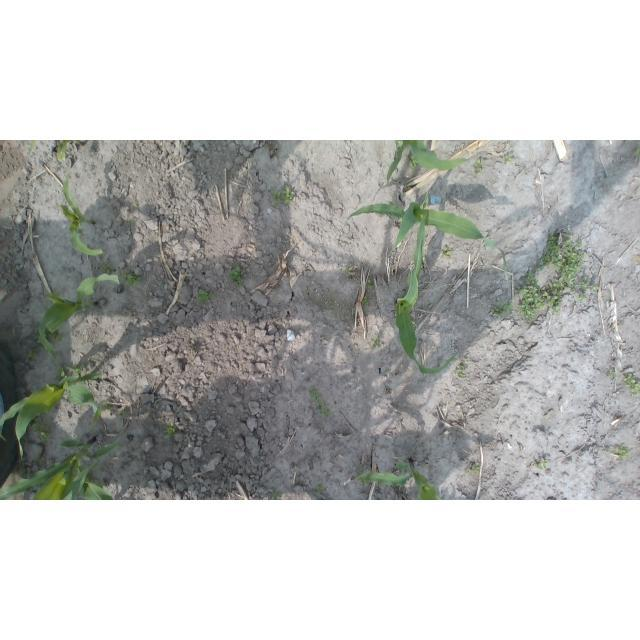Maize: (348, 193, 508, 271), (394, 215, 457, 376), (0, 371, 100, 460), (0, 436, 122, 501), (38, 274, 121, 363), (357, 457, 443, 500), (388, 141, 469, 184), (60, 173, 102, 255), (31, 140, 86, 162)
Weeds: (560, 237, 587, 294), (516, 271, 544, 324), (536, 233, 566, 271), (27, 418, 53, 445), (543, 281, 563, 315), (309, 388, 330, 417), (271, 185, 296, 208), (121, 268, 144, 289), (489, 300, 513, 317), (196, 289, 216, 306), (44, 327, 64, 344), (624, 374, 640, 395), (228, 266, 245, 285), (581, 276, 599, 293), (456, 358, 469, 378), (67, 363, 85, 377), (615, 445, 631, 460), (97, 260, 110, 275), (408, 155, 420, 171), (165, 421, 176, 438), (26, 348, 38, 361), (370, 336, 383, 348), (440, 246, 453, 258), (55, 367, 67, 379), (468, 464, 481, 475), (315, 484, 325, 497), (33, 328, 41, 344), (362, 296, 373, 307), (475, 159, 485, 171), (95, 478, 105, 489), (101, 401, 112, 411), (342, 264, 352, 274), (365, 279, 374, 290), (538, 460, 549, 469), (405, 178, 412, 191), (271, 492, 281, 501), (504, 153, 512, 164), (634, 144, 640, 156), (50, 288, 58, 296), (127, 217, 137, 223), (578, 293, 586, 300), (610, 369, 617, 377), (34, 454, 42, 460), (358, 468, 364, 476), (360, 480, 368, 485)
